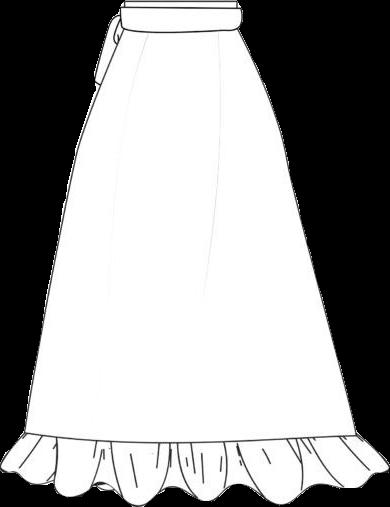Hemline: (0, 462, 389, 502)
Waistline: (23, 428, 354, 445), (123, 25, 238, 35), (122, 0, 239, 8)
